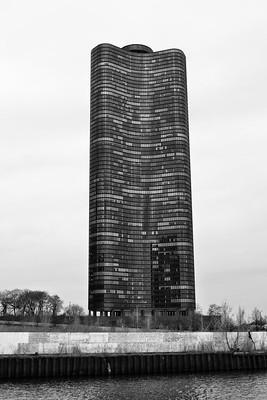building: (84, 39, 199, 329)
